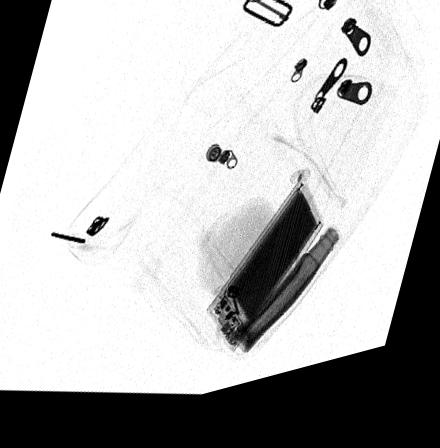Powerbank: (205, 194, 325, 363)
